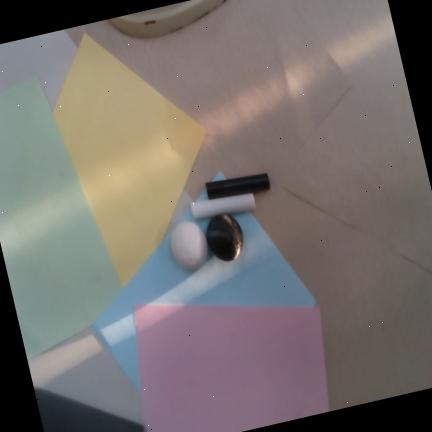Cilindro: (190, 193, 256, 220), (206, 173, 270, 200)
Esfera: (169, 221, 209, 270), (206, 214, 244, 261)
